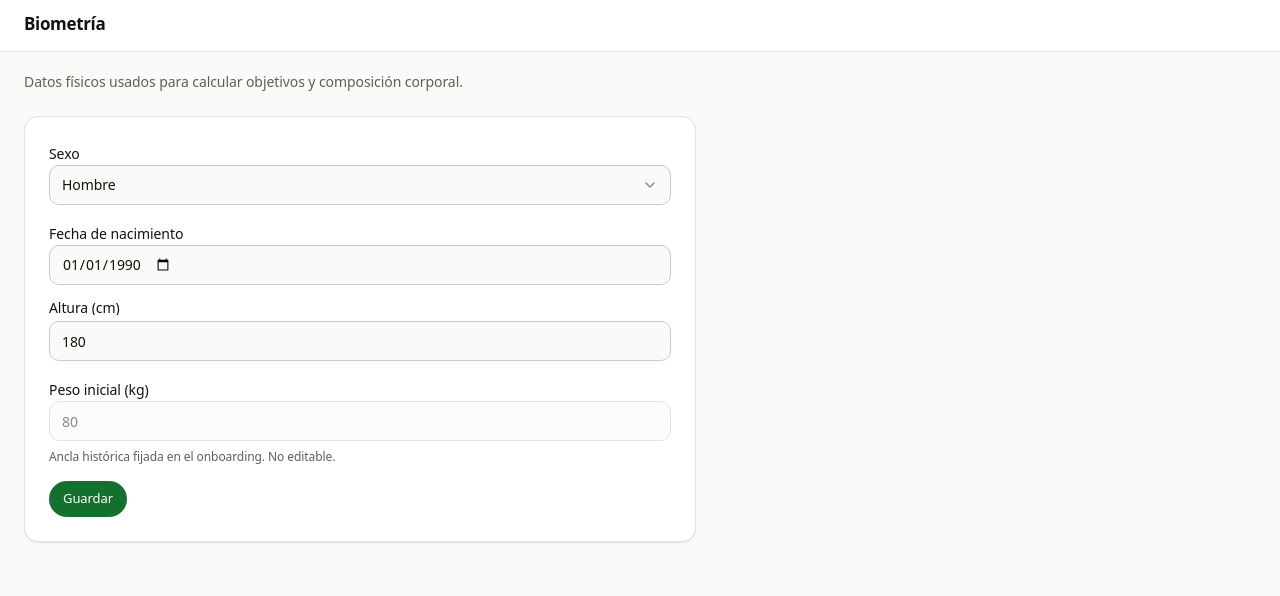
Test: SettingsBiometricsPage › shows the required error when fields are blanked
Clear the field labelled "Altura (cm)" at (360, 341), box [49, 321, 671, 361]
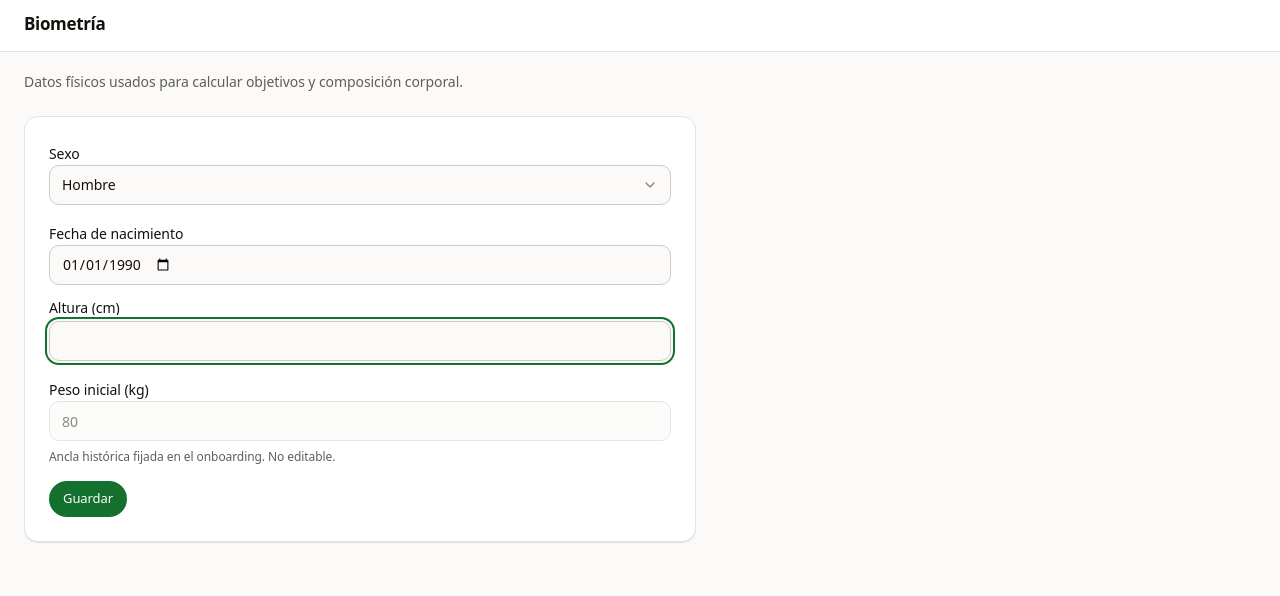
Clear the date field labelled "Fecha de nacimiento" at (360, 265), box [49, 245, 671, 285]
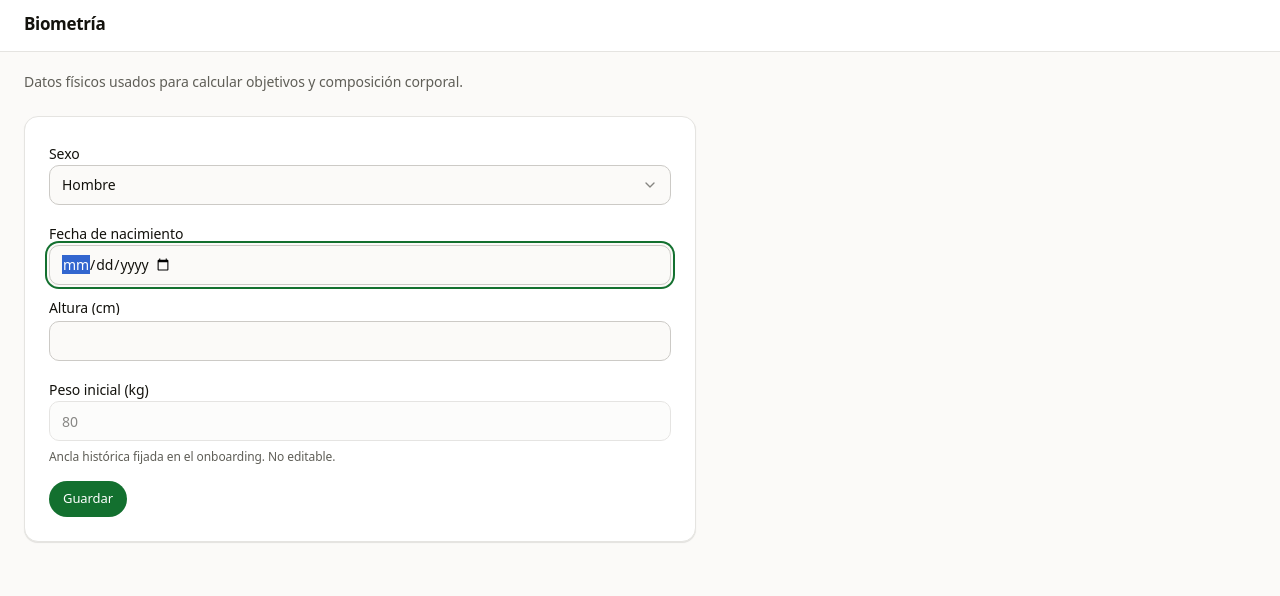
Click the button "Guardar" at (88, 499), box [49, 481, 127, 517]
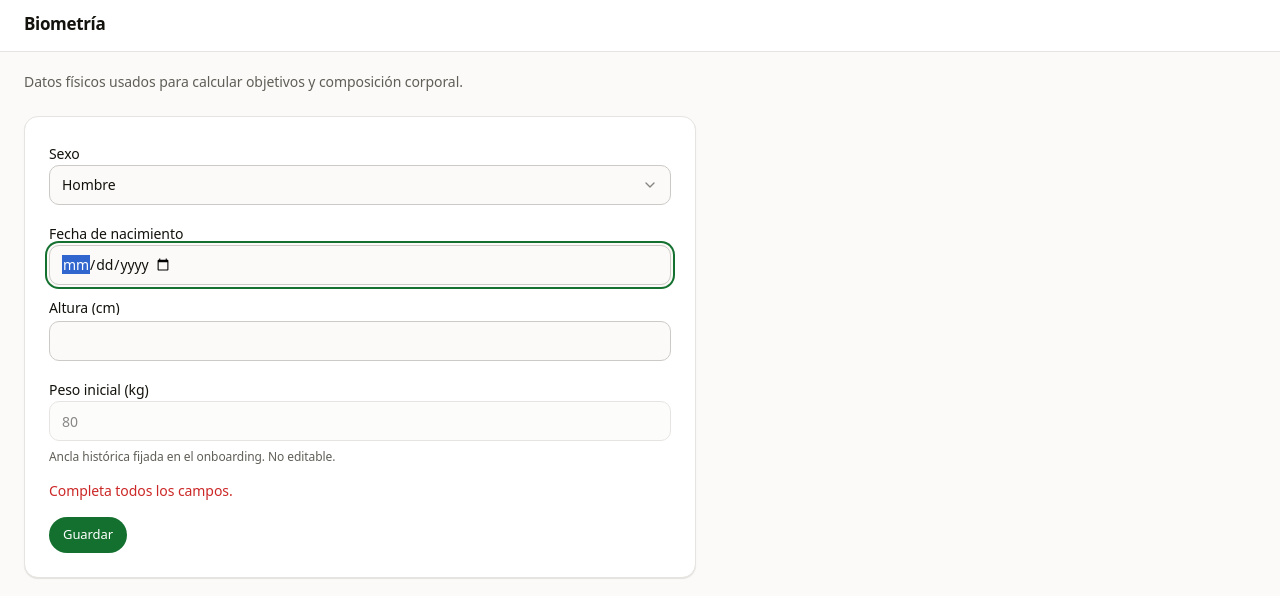
Expected: the text "Completa todos los campos." is shown, [49, 481, 233, 500]
